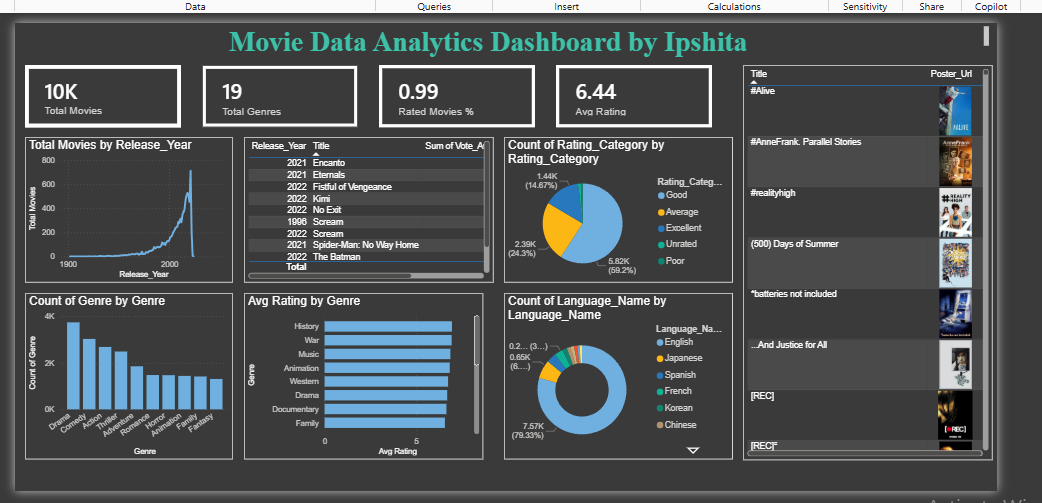

This screenshot's page, from the dashboard's own definition file:
{"tool":"powerbi","page":{"name":"Dashboard","canvas":[1510,720],"ordinal":3},"visuals":[{"type":"cardVisual","fields":{"Data":["movies_cleaned.Total Movies"]},"box":[16,64,240,96],"z":0},{"type":"cardVisual","fields":{"Data":["movie_genre_bridge.Total Genres"]},"box":[288,64,240,96],"z":1000},{"type":"cardVisual","fields":{"Data":["movies_cleaned.Rated Movies %"]},"box":[560,64,240,96],"z":2000},{"type":"cardVisual","fields":{"Data":["movies_cleaned.Avg Rating"]},"box":[832,64,240,96],"z":3000},{"type":"lineChart","fields":{"Category":["movies_cleaned.Release_Year"],"Y":["movies_cleaned.Total Movies"]},"box":[16,176,320,224],"z":4000},{"type":"tableEx","fields":{"Values":["movies_cleaned.Release_Year","movies_cleaned.Title","Sum(movies_cleaned.Vote_Average)","Sum(movies_cleaned.Popularity)"]},"box":[352,176,384,224],"z":5000},{"type":"clusteredColumnChart","fields":{"Category":["movie_genre_bridge.Genre"],"Y":["CountNonNull(movie_genre_bridge.Genre)"]},"box":[16,416,320,256],"z":6000},{"type":"donutChart","fields":{"Category":["movies_cleaned.Language_Name"],"Y":["CountNonNull(movies_cleaned.Language_Name)"]},"box":[752,416,352,256],"z":7000},{"type":"pieChart","fields":{"Category":["movies_cleaned.Rating_Category"],"Y":["CountNonNull(movies_cleaned.Rating_Category)"]},"box":[752,176,352,224],"z":8000},{"type":"tableEx","fields":{"Values":["movie_genre_bridge.Title","movies_cleaned.Poster_Url"]},"box":[1120,64,384,608],"z":9000},{"type":"clusteredBarChart","fields":{"Category":["movie_genre_bridge.Genre"],"Y":["movies_cleaned.Avg Rating"]},"box":[352,416,368,256],"z":10000},{"type":"textbox","box":[16,0,1488,64],"z":11000}]}

Visuals, with their boxes on the page's 1510x720 design canvas (x1, y1, x2, y2). These are canvas units, not pixel positions in the 1042x503 screenshot, which may show the page scaled, cropped or inside an application window:
cardVisual - movies_cleaned.Total Movies: rect(16, 64, 256, 160)
cardVisual - movie_genre_bridge.Total Genres: rect(288, 64, 528, 160)
cardVisual - movies_cleaned.Rated Movies %: rect(560, 64, 800, 160)
cardVisual - movies_cleaned.Avg Rating: rect(832, 64, 1072, 160)
lineChart - movies_cleaned.Release_Year x movies_cleaned.Total Movies: rect(16, 176, 336, 400)
tableEx - movies_cleaned.Release_Year x movies_cleaned.Title: rect(352, 176, 736, 400)
clusteredColumnChart - movie_genre_bridge.Genre x CountNonNull(movie_genre_bridge.Genre): rect(16, 416, 336, 672)
donutChart - movies_cleaned.Language_Name x CountNonNull(movies_cleaned.Language_Name): rect(752, 416, 1104, 672)
pieChart - movies_cleaned.Rating_Category x CountNonNull(movies_cleaned.Rating_Category): rect(752, 176, 1104, 400)
tableEx - movie_genre_bridge.Title x movies_cleaned.Poster_Url: rect(1120, 64, 1504, 672)
clusteredBarChart - movie_genre_bridge.Genre x movies_cleaned.Avg Rating: rect(352, 416, 720, 672)
textbox: rect(16, 0, 1504, 64)
